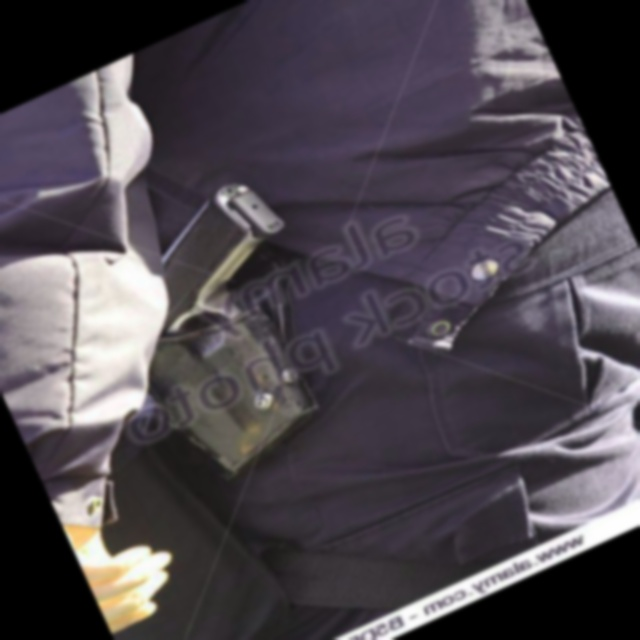gun: (72, 160, 373, 493)
